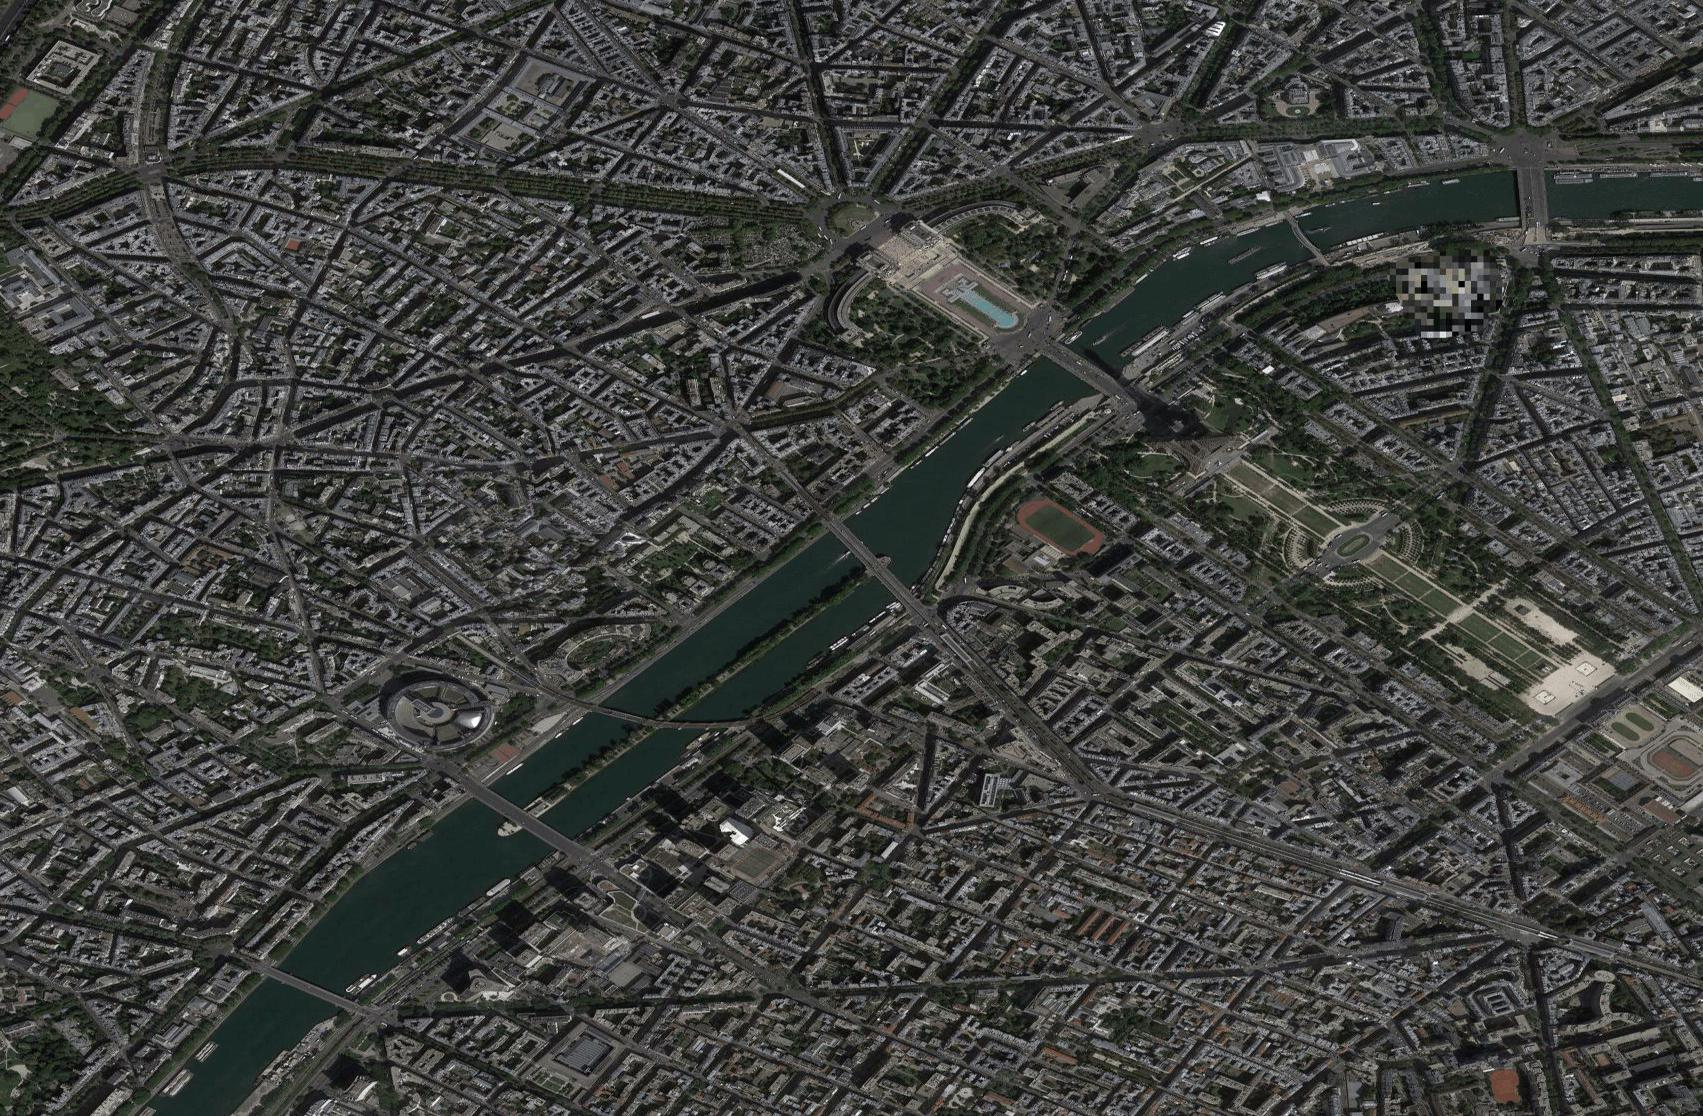bridge: (818, 504, 917, 609), (1033, 328, 1140, 407), (466, 778, 571, 858), (259, 962, 355, 1006), (1505, 157, 1555, 222), (1282, 209, 1326, 260)
